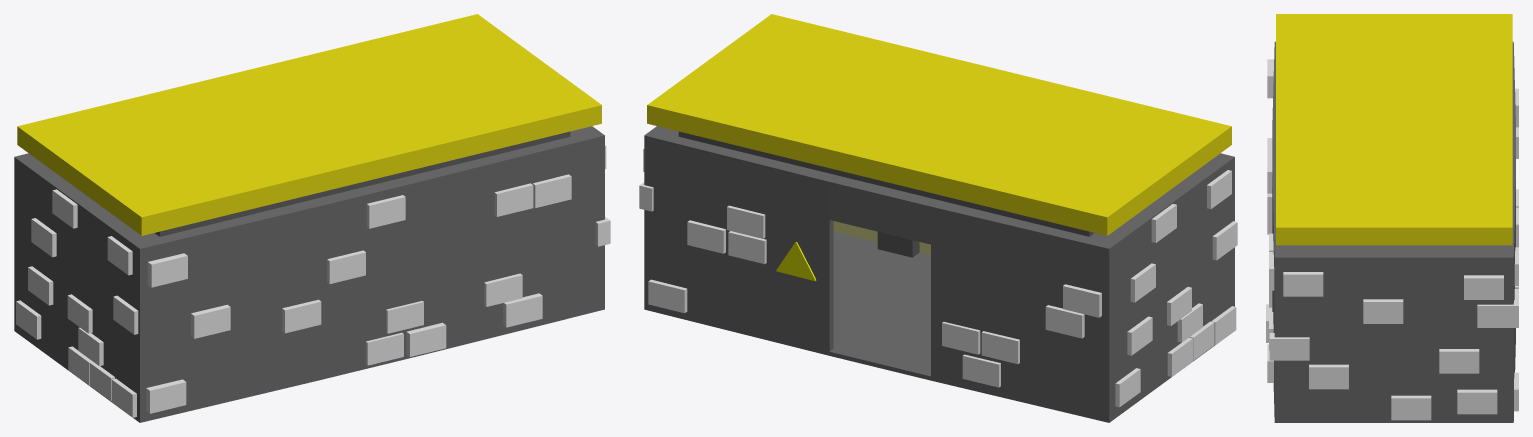
Rendered from ElectricBuilding.fbx.
3 views of the same model, side by side, from view 1: azimuth 30°, elevation 25°; view 2: azimuth 150°, elevation 25°; view 3: azimuth 270°, elevation 25° (orthographic). The views are drawn at different scales.
Visible parts, largest first — view 1: Cube; view 2: Cube; view 3: Cube.
Boxes of the visible parts, x1=… form: Cube: x1=14, y1=14, x2=610, y2=422; Cube: x1=639, y1=14, x2=1237, y2=422; Cube: x1=1266, y1=14, x2=1518, y2=422.
Bounding box in the file's own units: 2260 × 929 × 1096.
